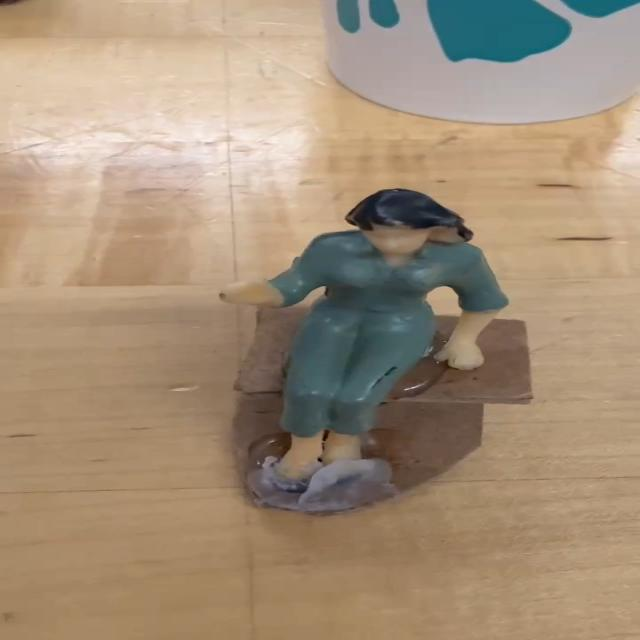Authorized: (204, 175, 476, 539)
